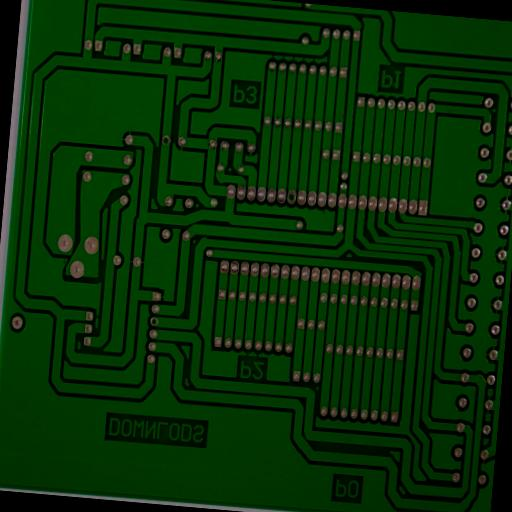missing_hole: (160, 134, 172, 146), (286, 192, 297, 204), (149, 316, 160, 328)
